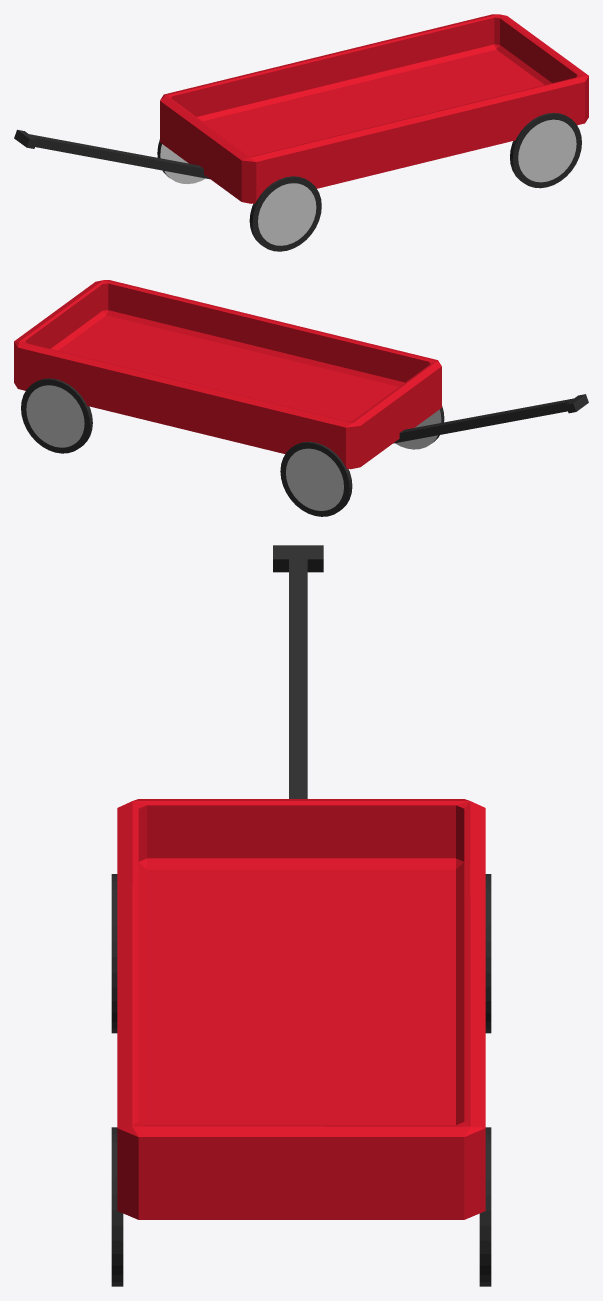
Rendered from BODYCART.fbx.
3 renders of one model, top to bottom at view 1: azimuth 30°, elevation 25°; view 2: azimuth 150°, elevation 25°; view 3: azimuth 270°, elevation 25°, orthographic. The views are drawn at different scales.
Parts seen in each view (by area): view 1: Cube, Circle, Cube.001; view 2: Cube, Circle, Cube.001; view 3: Cube, Cube.001, Circle.
Part boxes in pixels (x1,y1,x2,y2): Cube: [160, 14, 588, 203]; Circle: [157, 113, 581, 251]; Cube.001: [14, 129, 209, 179]; Cube: [14, 280, 441, 469]; Circle: [21, 378, 444, 516]; Cube.001: [393, 394, 588, 443]; Cube: [117, 799, 485, 1219]; Cube.001: [273, 545, 323, 798]; Circle: [111, 874, 491, 1286].
Size of the model in its own units: 661 by 161 by 206.
